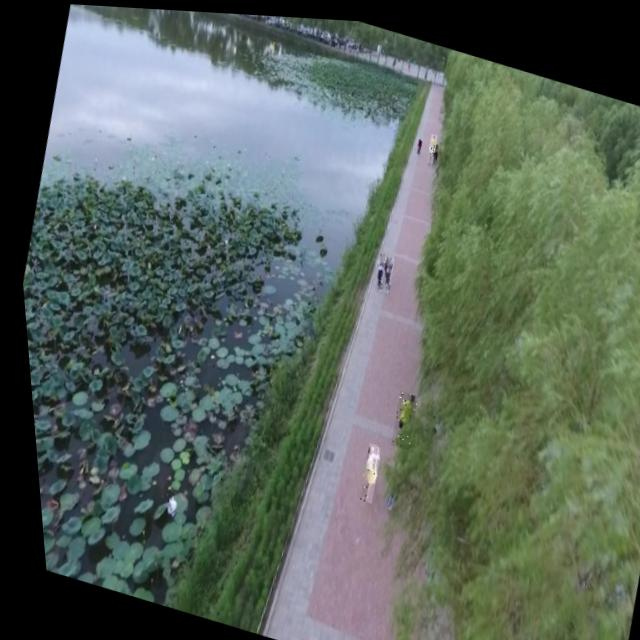Person: (380, 385, 414, 447), (347, 439, 377, 500), (372, 250, 392, 289), (367, 247, 387, 286), (355, 438, 372, 467), (423, 137, 435, 160), (427, 139, 438, 161), (425, 128, 436, 147), (413, 134, 421, 150)
